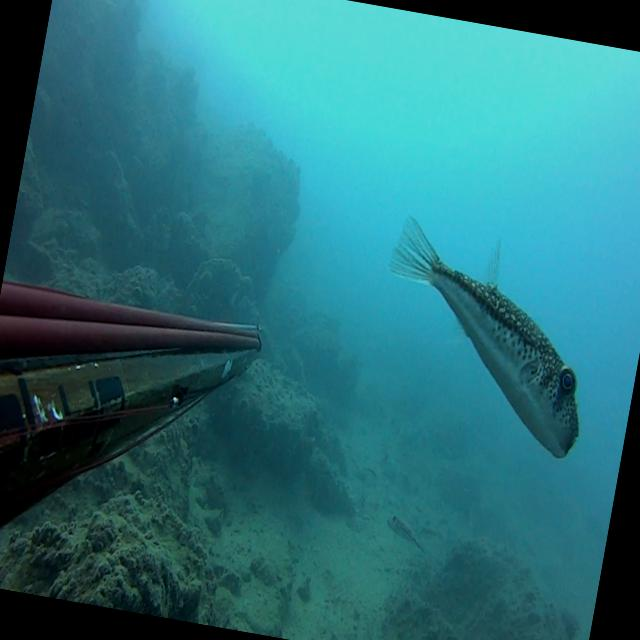Balon Baligi: (358, 208, 612, 464), (383, 514, 428, 550)
